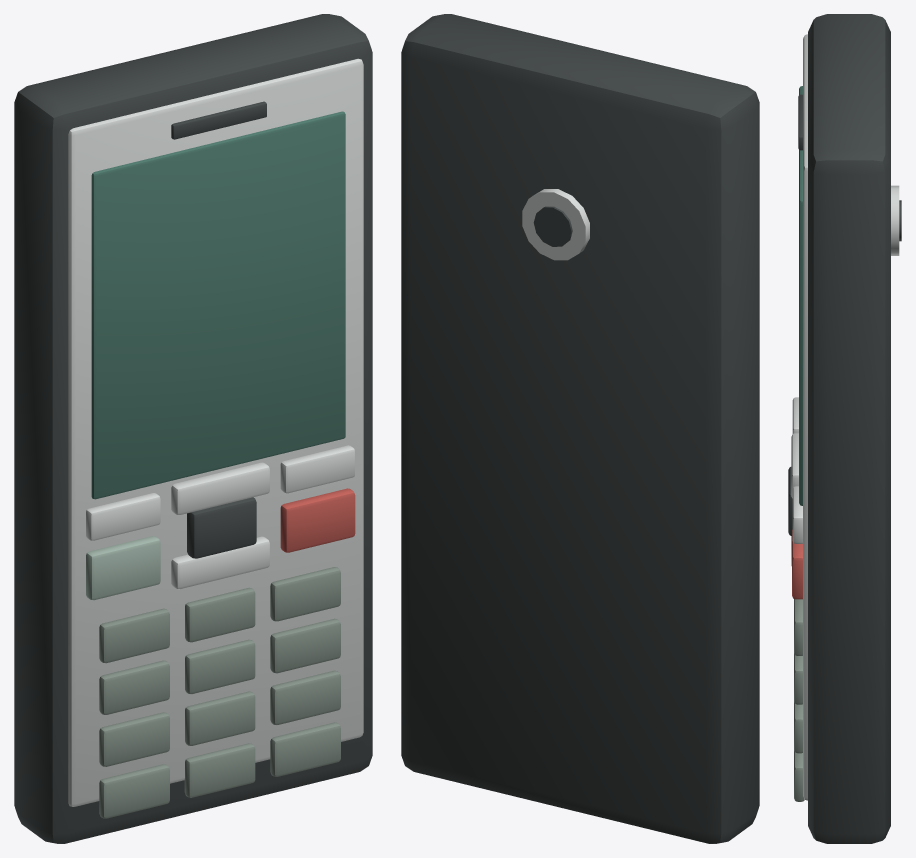
File: CTCC_PROP_MinhPhone.fbx
The picture shows the model from 3 angles, left to right: view 1: azimuth 30°, elevation 25°; view 2: azimuth 150°, elevation 25°; view 3: azimuth 270°, elevation 25°; orthographic projection. The views are drawn at different scales.
Visible parts, largest first — view 1: PhoneBody, PhoneKeyEnd, PhoneKeyCall, PhoneKeyOk, PhoneKeyUp, PhoneKeyDown, PhoneKeyBack, PhoneKeySoftL; view 2: PhoneBody; view 3: PhoneBody, PhoneKeyEnd, PhoneKeyBack, PhoneKeyUp, PhoneKeyOk, PhoneKeySoftL.
Part boxes in pixels (x1,y1,x2,y2): PhoneBody: (14, 14, 372, 843); PhoneKeyEnd: (280, 488, 355, 552); PhoneKeyCall: (86, 536, 160, 600); PhoneKeyOk: (187, 497, 256, 558); PhoneKeyUp: (171, 462, 269, 514); PhoneKeyDown: (171, 536, 269, 589); PhoneKeyBack: (280, 445, 354, 493); PhoneKeySoftL: (86, 493, 160, 540); PhoneBody: (401, 14, 759, 843); PhoneBody: (794, 14, 901, 843); PhoneKeyEnd: (792, 529, 802, 599); PhoneKeyBack: (792, 486, 802, 543); PhoneKeyUp: (791, 433, 798, 498); PhoneKeyOk: (788, 467, 792, 535); PhoneKeySoftL: (792, 397, 798, 433).
Size of the model in its own units: 0.056 by 0.12 by 0.0178.
